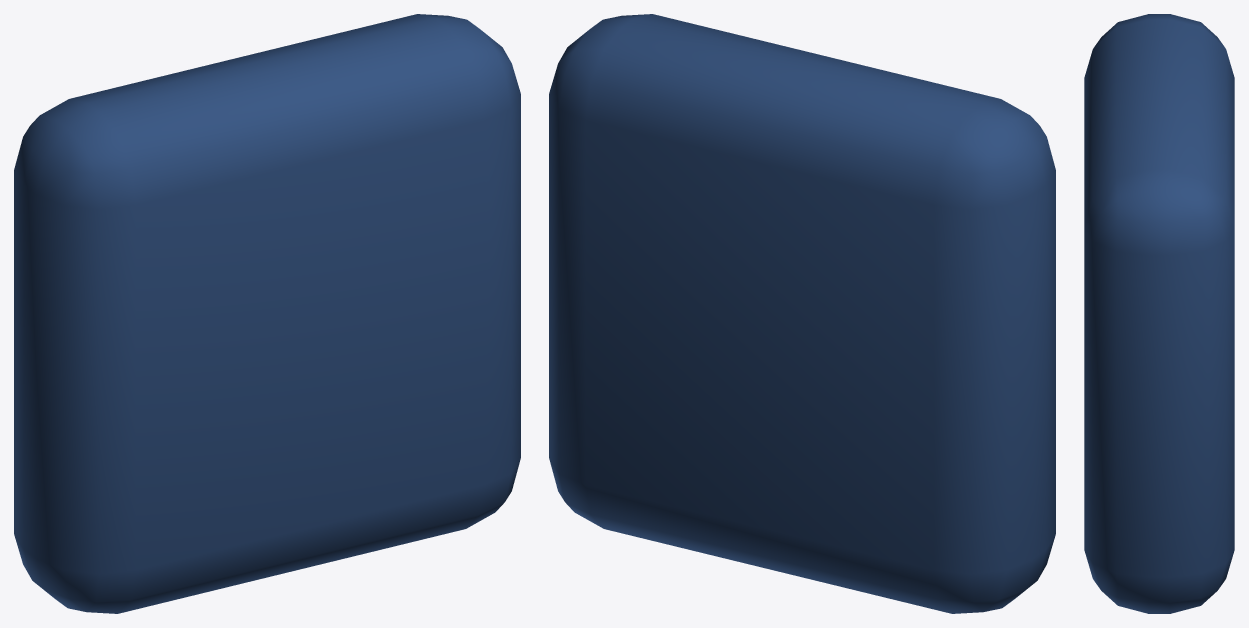
The model's file is home.soft.cushion_blue.glb.
3 views of the same model, side by side, from view 1: azimuth 30°, elevation 25°; view 2: azimuth 150°, elevation 25°; view 3: azimuth 270°, elevation 25° (orthographic). The views are drawn at different scales.
Visible parts, largest first — view 1: main__fabric_blue; view 2: main__fabric_blue; view 3: main__fabric_blue.
Boxes of the visible parts, box(x1,y1,x2,y2) form: main__fabric_blue: box(14, 14, 520, 613); main__fabric_blue: box(549, 14, 1055, 613); main__fabric_blue: box(1084, 14, 1234, 613).
Bounding box in the file's own units: 0.45 × 0.45 × 0.14.
